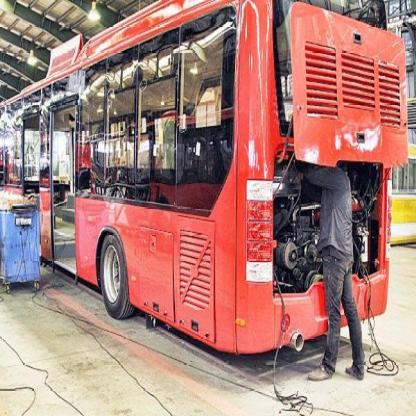Bus: (0, 0, 402, 370)
